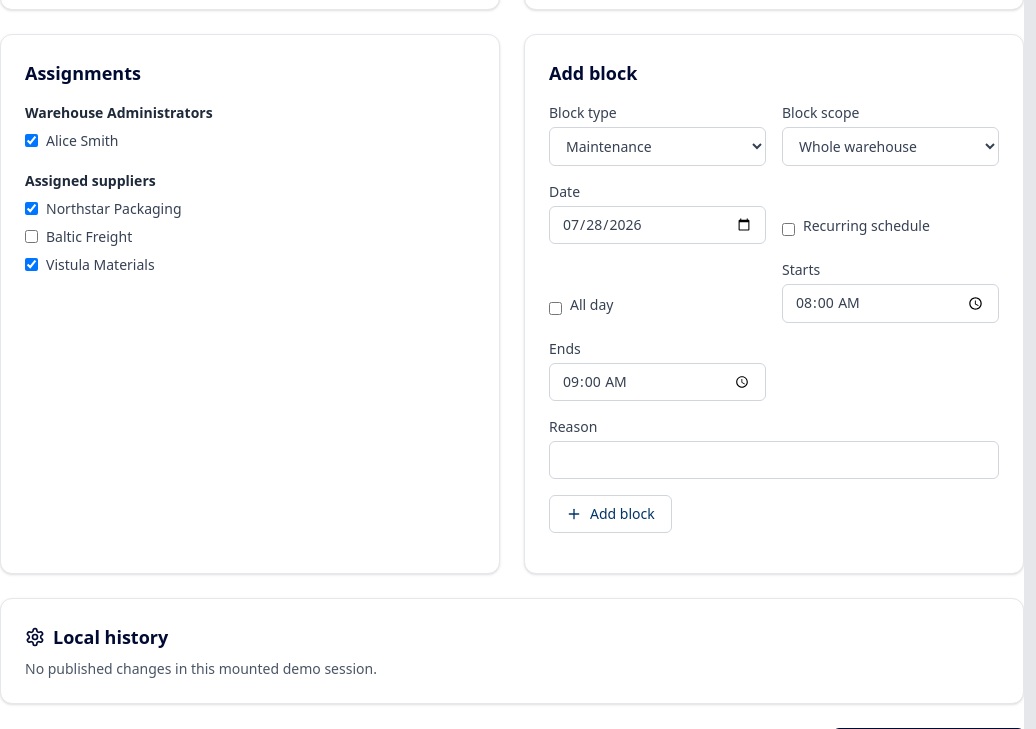
Scenario: WarehouseConfigurationPage › requires a reason before adding an administrative exception
The image size is (1036, 729).
(page scrolled)
Click the button "Add block": click(610, 514) x1=549 y1=495 x2=672 y2=533
(page scrolled)
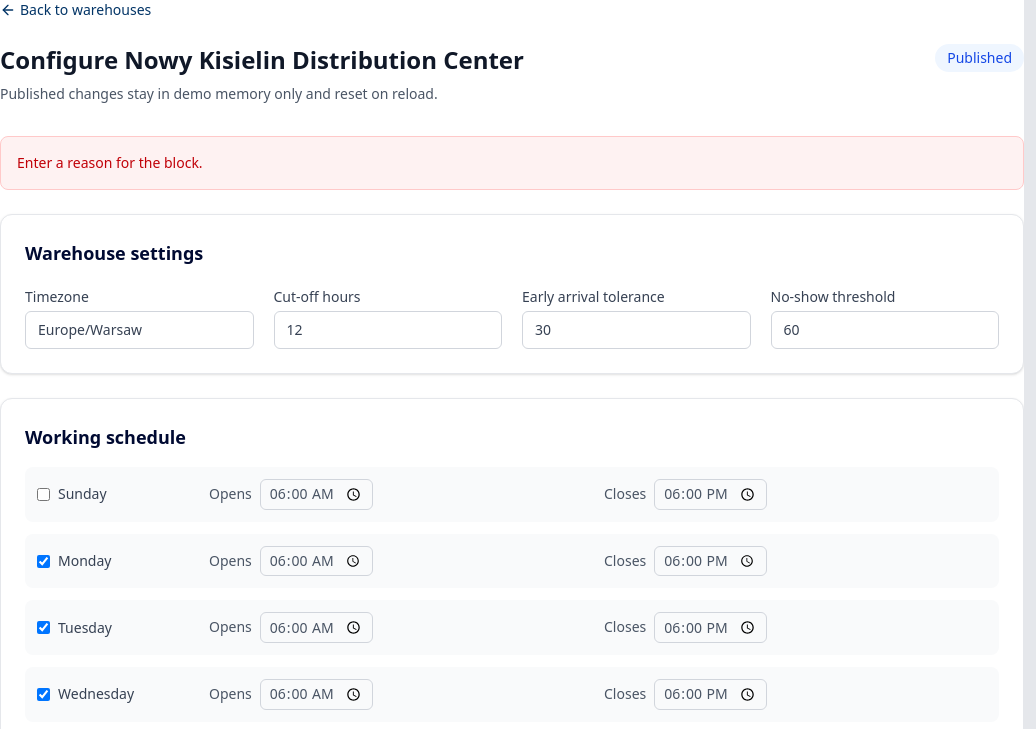
Expected: the message reads "Enter a reason for the block.", x1=17 y1=153 x2=203 y2=172
